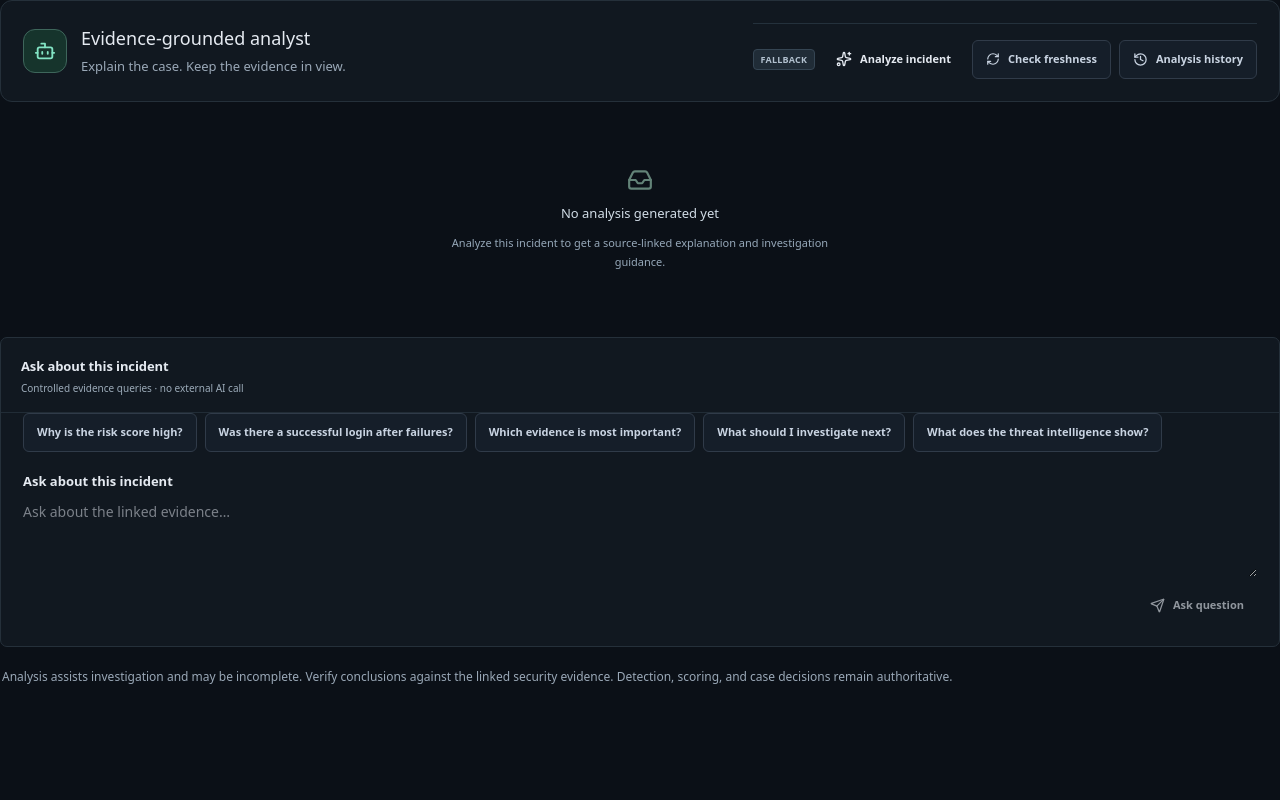
it: asks scoped questions and renders reference-backed text safely
expect the text "No analysis generated yet" is shown: met, box [561,204,719,223]
Click the button "Was there a successful login after failures?". click: (336, 432)
box: [205,413,467,452]
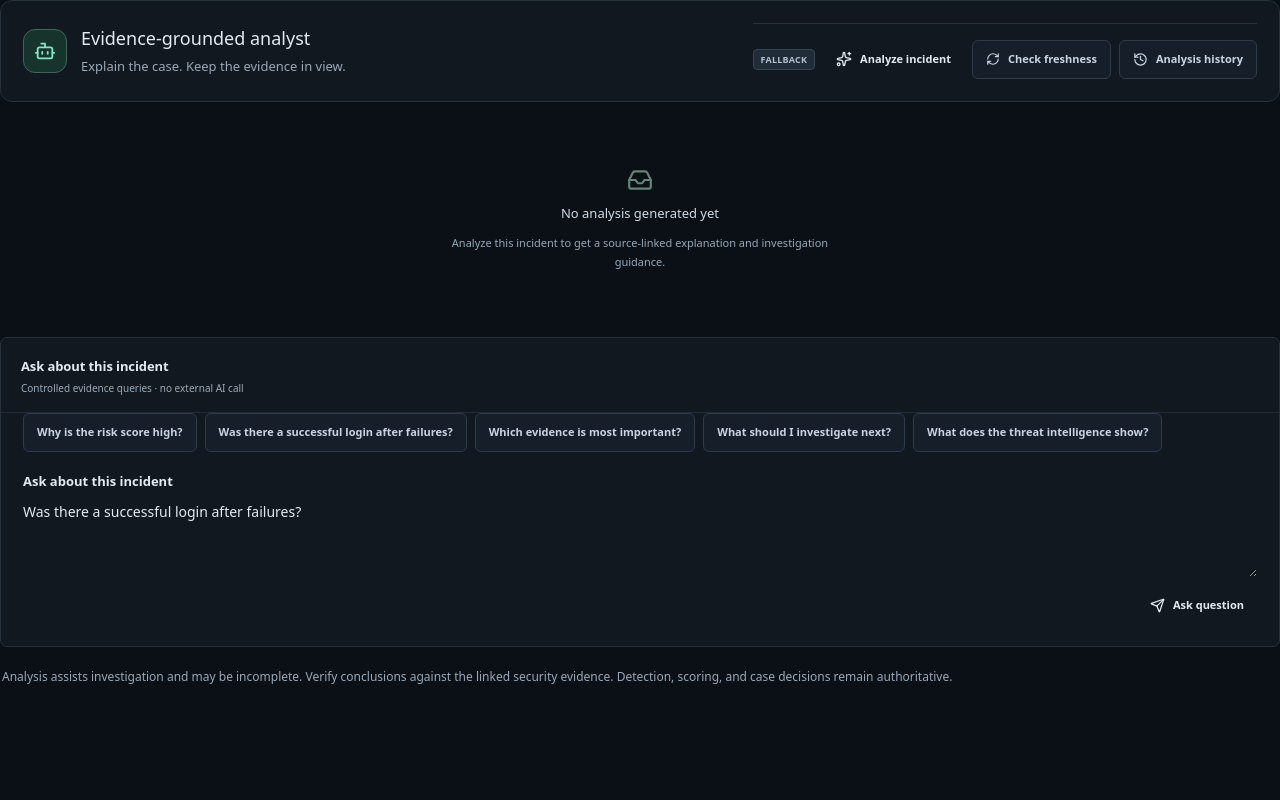
Click the button "Ask question". click: (1197, 605)
box: [1137,587,1257,624]
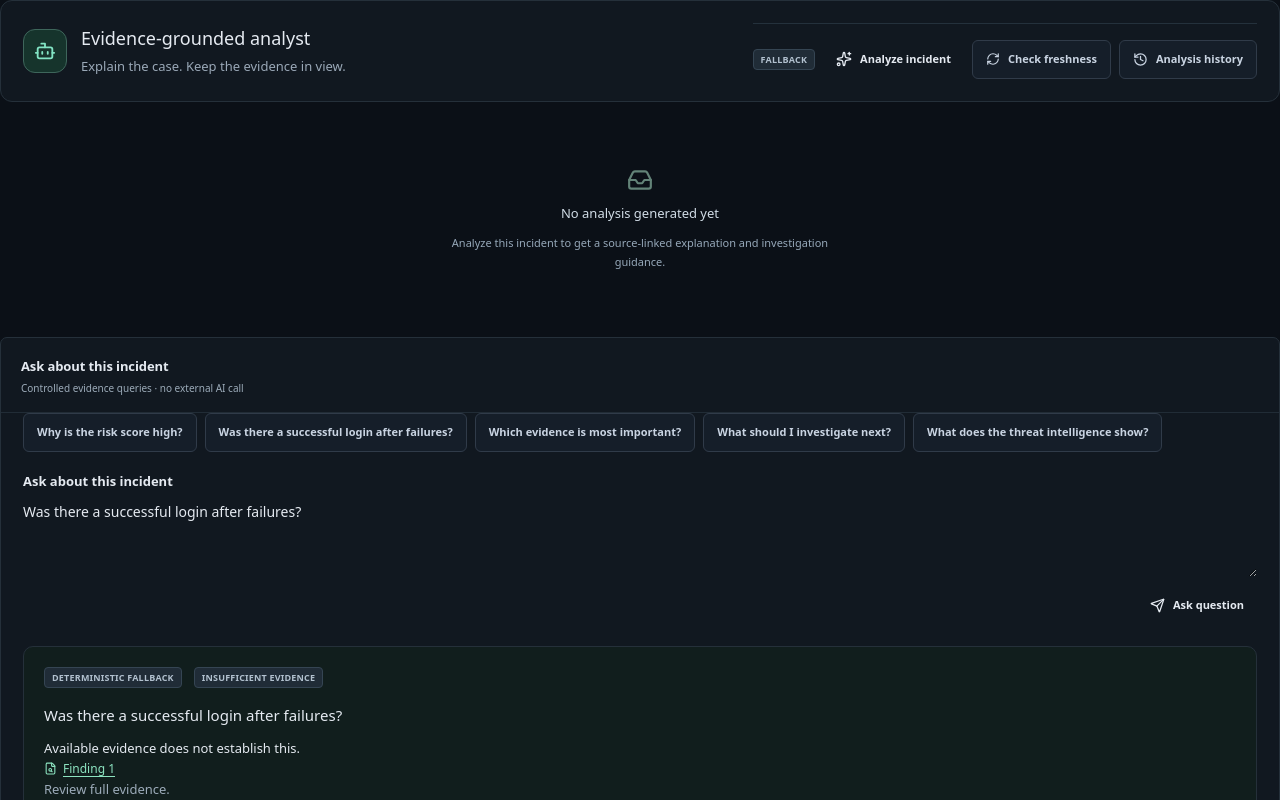
expect the text "Available evidence does not establish this." is shown: met, box [44,738,300,756]
expect the button with aria-label "View evidence FIND-1" is shown: met, box [44,760,115,778]
